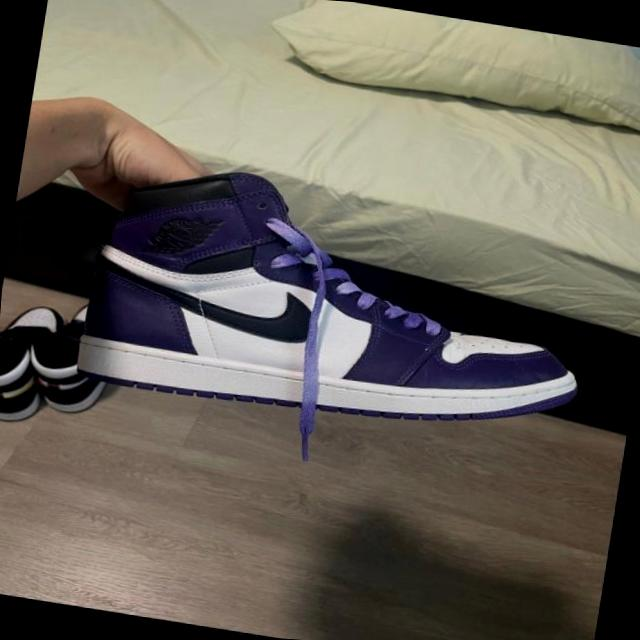nike_original_jordan: (60, 146, 613, 462)
